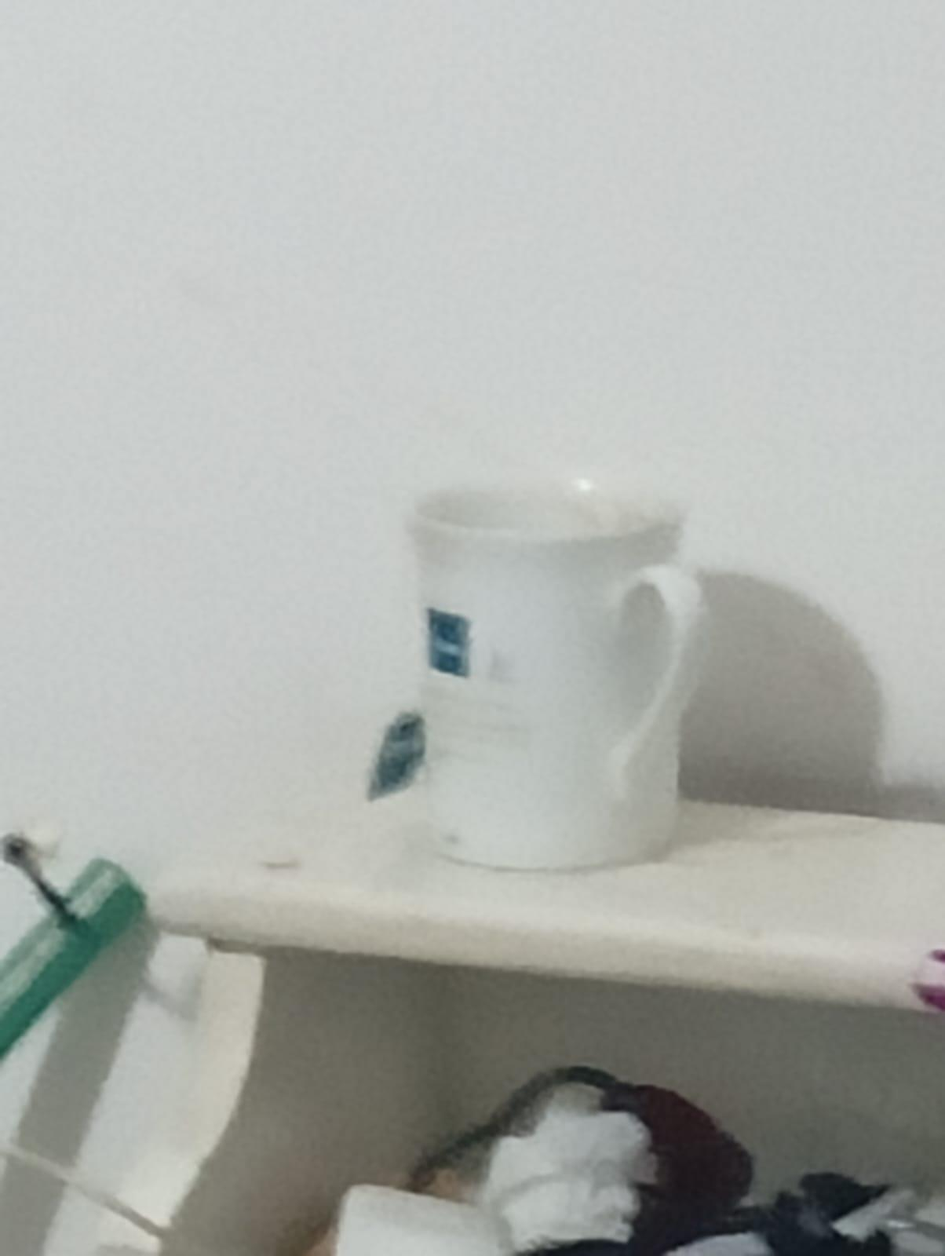cup: (411, 487, 702, 869)
